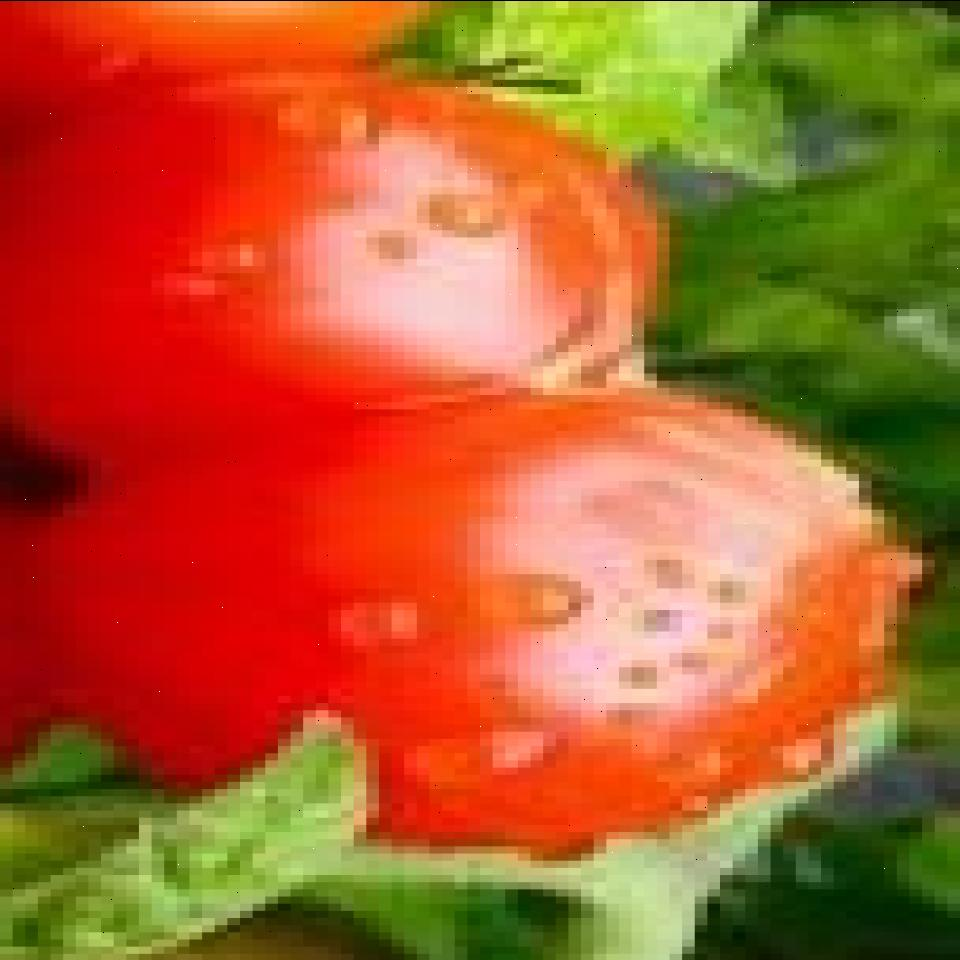Healthy: (50, 394, 878, 834), (0, 58, 670, 430)
